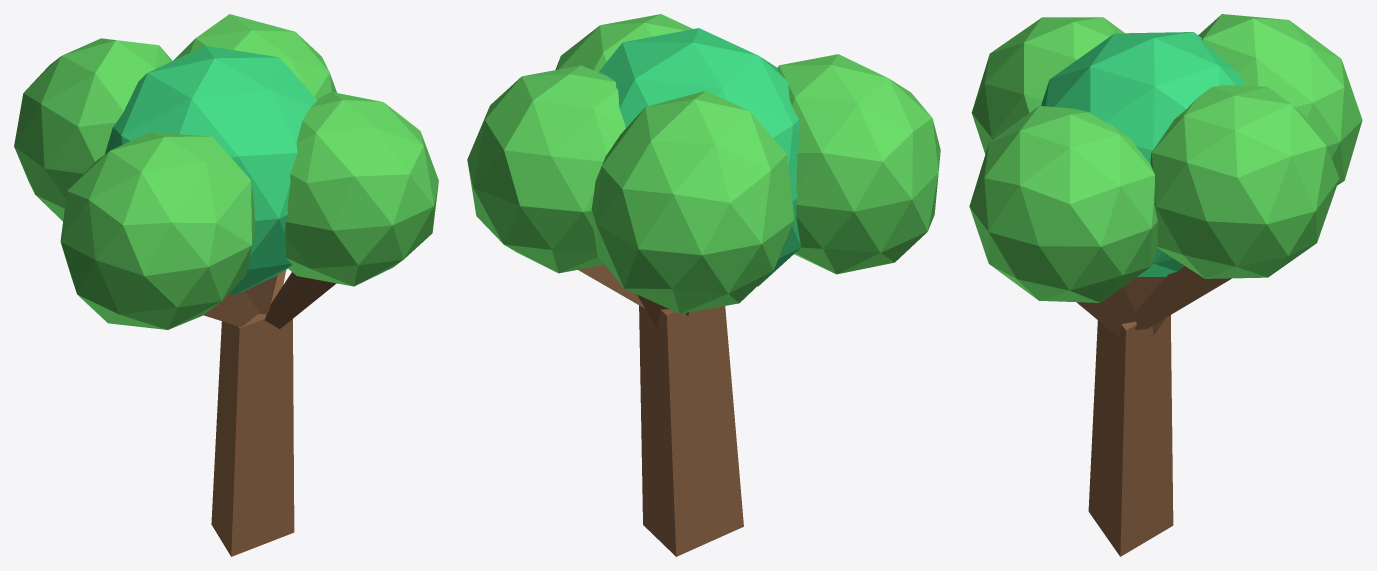
File: bigtree.glb
3 views of the same model, side by side, from view 1: azimuth 30°, elevation 25°; view 2: azimuth 150°, elevation 25°; view 3: azimuth 270°, elevation 25° (orthographic). The views are drawn at different scales.
Parts seen in each view (by area): view 1: bigtree; view 2: bigtree; view 3: bigtree.
Boxes of the visible parts, bbox=[...] form: bigtree: bbox=[14, 14, 438, 556]; bigtree: bbox=[467, 14, 940, 556]; bigtree: bbox=[969, 14, 1362, 556].
Bounding box in the file's own units: 1.74 × 2.28 × 1.67.
